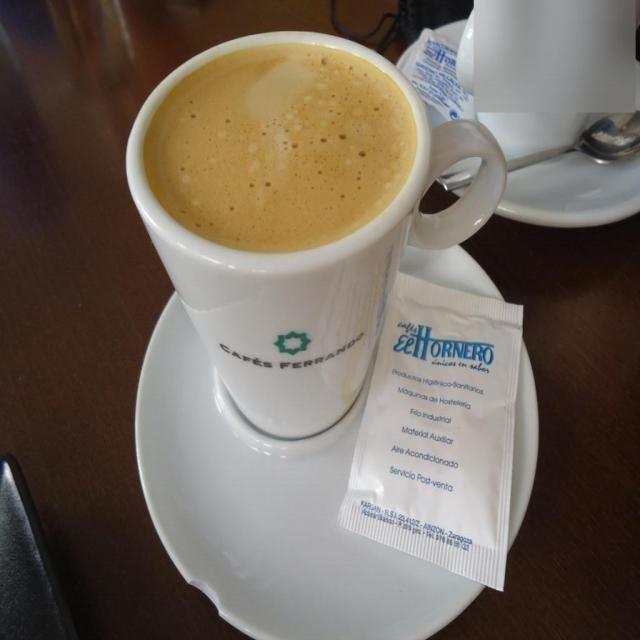cup-handle: (126, 29, 506, 440)
